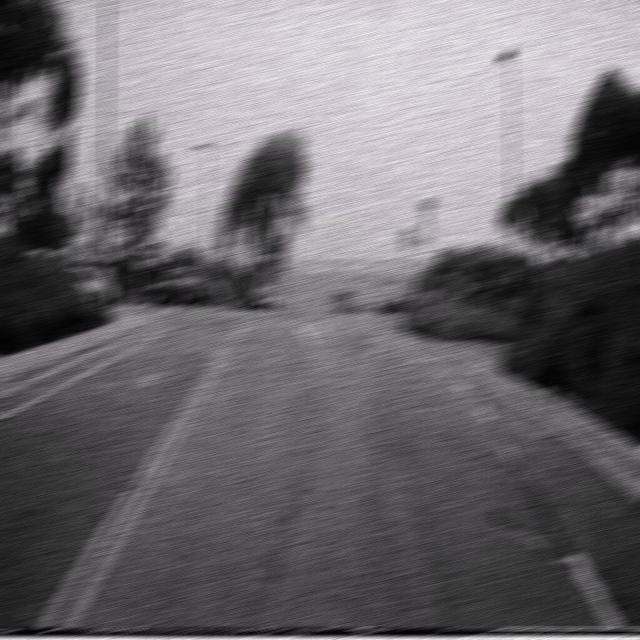stop: (398, 225, 418, 252)
